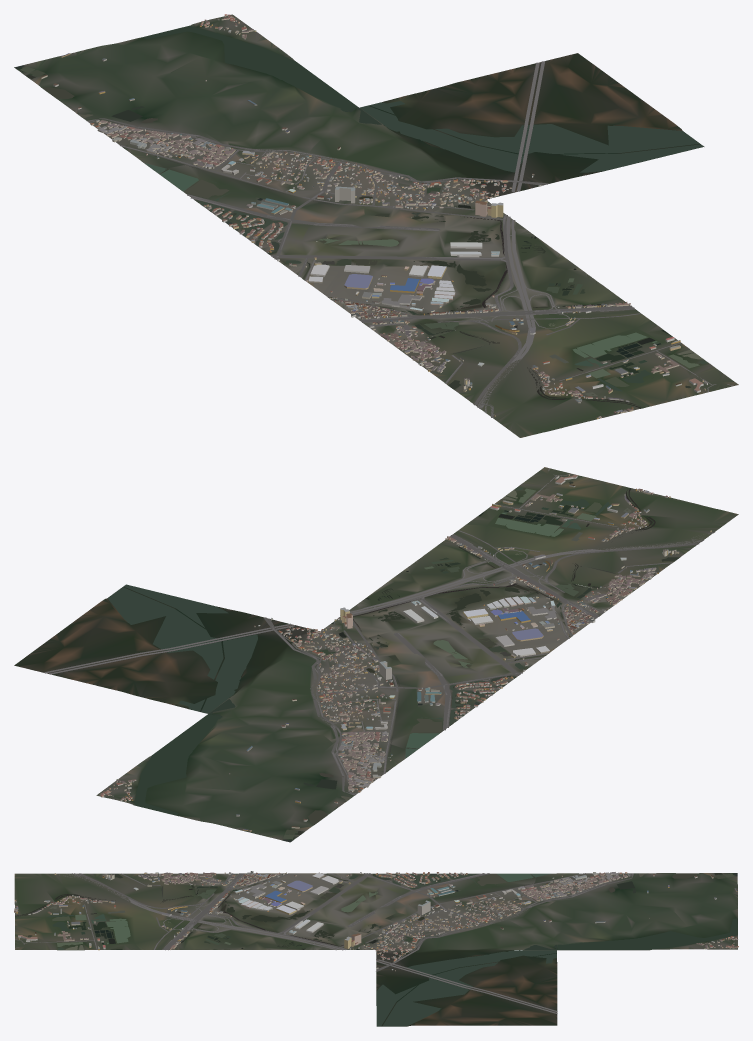
3 views of the same model, one above another, from view 1: azimuth 30°, elevation 25°; view 2: azimuth 150°, elevation 25°; view 3: azimuth 270°, elevation 25° (orthographic). The views are drawn at different scales.
Parts seen in each view (by area): view 1: ground, water, buildings, roads; view 2: ground, water, buildings, roads; view 3: ground, water, buildings, roads.
Part boxes in pixels (x1,y1,x2,y2): ground: (14, 14, 738, 437); water: (14, 25, 707, 408); buildings: (41, 14, 707, 419); roads: (87, 61, 733, 417); ground: (14, 467, 738, 842); water: (107, 481, 678, 842); buildings: (99, 474, 711, 831); roads: (44, 468, 714, 795); ground: (14, 873, 737, 1026); water: (15, 873, 737, 1026); buildings: (14, 871, 738, 971); roads: (15, 873, 633, 1013).
Bounding box in the file's own units: 2820 × 84.08 × 5622.
